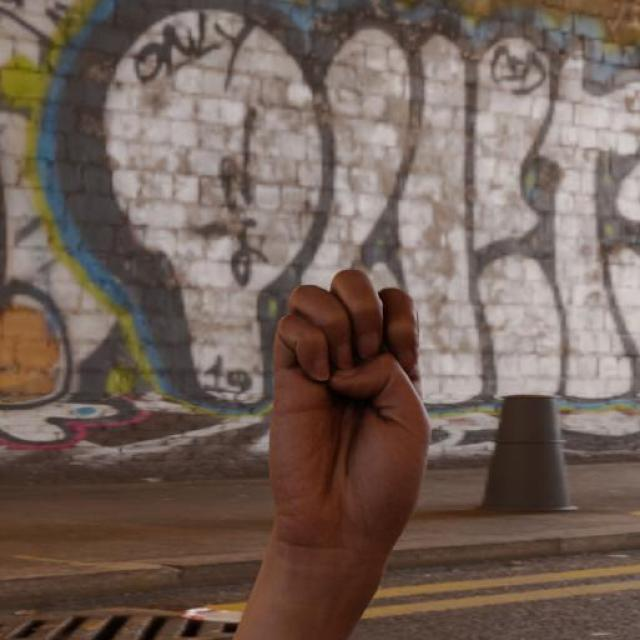E: (265, 266, 435, 564)
